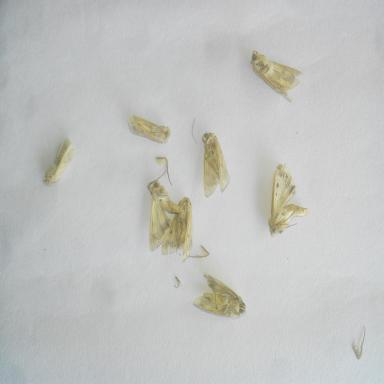abw: (265, 159, 311, 241), (143, 171, 188, 253), (248, 46, 307, 107), (190, 269, 251, 322), (156, 193, 201, 261), (200, 127, 234, 202), (38, 135, 78, 191), (124, 109, 174, 149)
